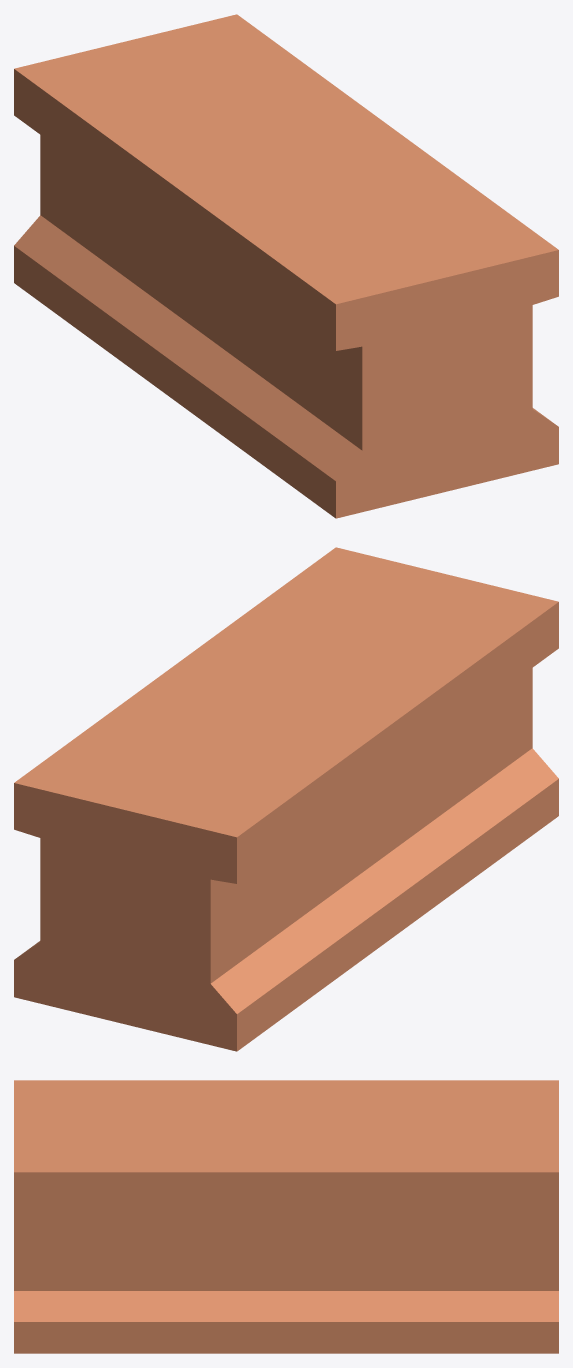
Rendered from Divider_Half.fbx.
The picture shows the model from 3 angles, top to bottom: view 1: azimuth 30°, elevation 25°; view 2: azimuth 150°, elevation 25°; view 3: azimuth 270°, elevation 25°; orthographic projection. The views are drawn at different scales.
Parts seen in each view (by area): view 1: Half Divider; view 2: Half Divider; view 3: Half Divider.
Part boxes in pixels (box(x1,y1,x2,y2)): Half Divider: box(14, 14, 558, 518); Half Divider: box(14, 547, 558, 1051); Half Divider: box(14, 1080, 558, 1353).
Bounding box in the file's own units: 2 × 1.84 × 5.
